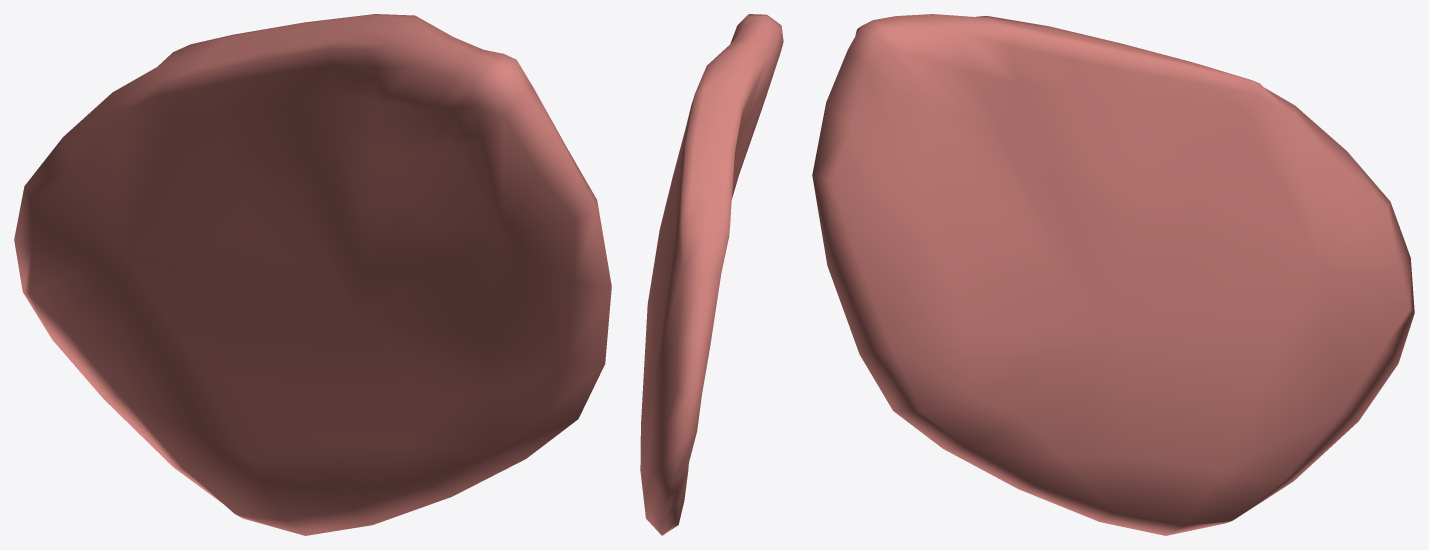
3 renders of one model, left to right at view 1: azimuth 30°, elevation 25°; view 2: azimuth 150°, elevation 25°; view 3: azimuth 270°, elevation 25°, orthographic. The views are drawn at different scales.
Parts seen in each view (by area): view 1: ZA_c721edb1b29d752d; view 2: ZA_c721edb1b29d752d; view 3: ZA_c721edb1b29d752d.
Boxes of the visible parts, box(x1,y1,x2,y2) form: ZA_c721edb1b29d752d: box(14, 14, 611, 535); ZA_c721edb1b29d752d: box(640, 14, 783, 535); ZA_c721edb1b29d752d: box(812, 14, 1414, 535).
Size of the model in its own units: 0.00229 by 0.0043 by 0.00446.
